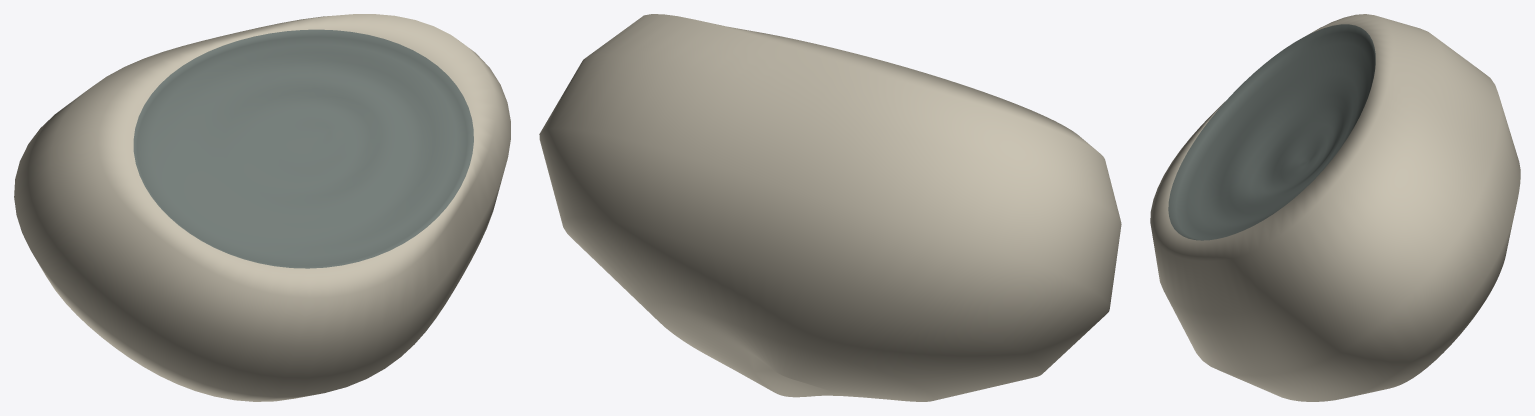
File: flint-nodule.glb
The picture shows the model from 3 angles, left to right: view 1: azimuth 30°, elevation 25°; view 2: azimuth 150°, elevation 25°; view 3: azimuth 270°, elevation 25°; orthographic projection. The views are drawn at different scales.
Parts seen in each view (by area): view 1: rounded-chalk-cortex-nodule-with-single-conchoidal-fracture; view 2: rounded-chalk-cortex-nodule-with-single-conchoidal-fracture; view 3: rounded-chalk-cortex-nodule-with-single-conchoidal-fracture.
Part boxes in pixels (<box>): rounded-chalk-cortex-nodule-with-single-conchoidal-fracture: <box>14,14,510,401</box>; rounded-chalk-cortex-nodule-with-single-conchoidal-fracture: <box>539,14,1121,401</box>; rounded-chalk-cortex-nodule-with-single-conchoidal-fracture: <box>1150,14,1520,401</box>.
Bounding box in the file's own units: 0.22 × 0.1415 × 0.152.
